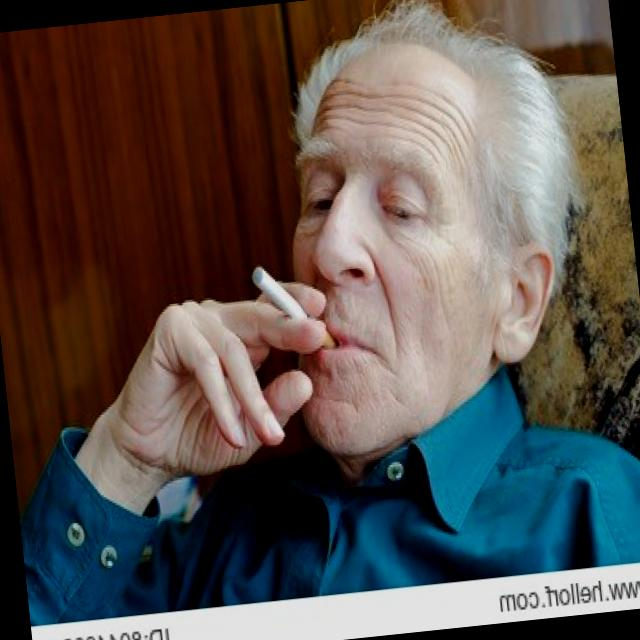cigarette: (248, 256, 334, 362)
